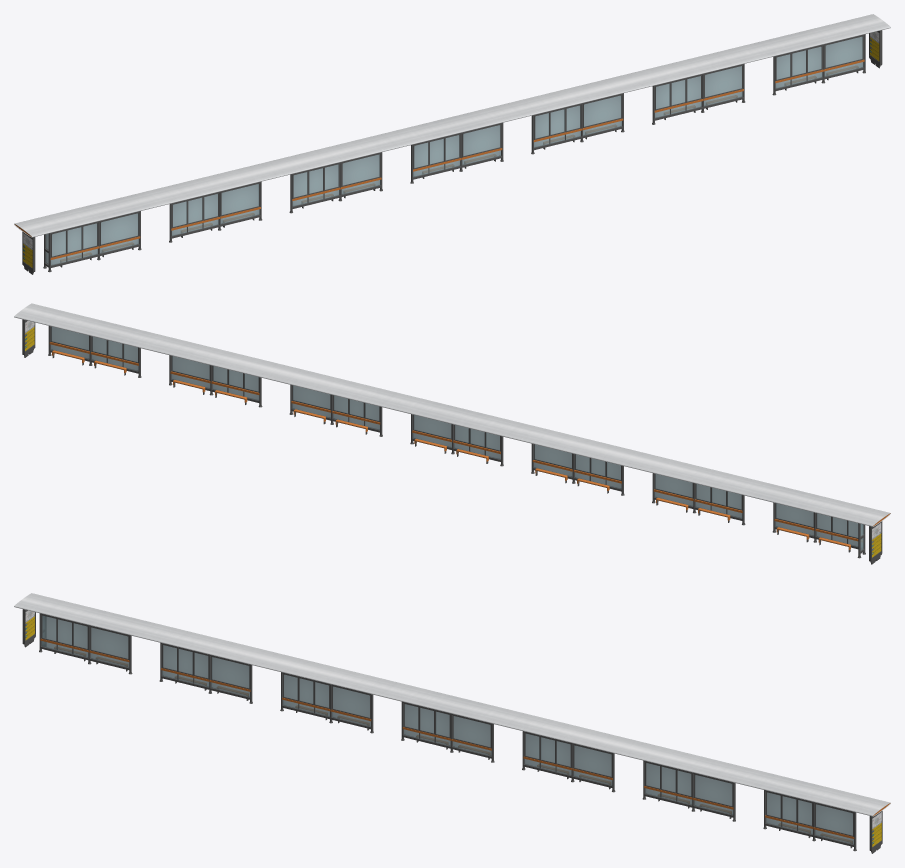
Rendered from Bus_Stop_4.fbx.
3 views of the same model, one above another, from view 1: azimuth 30°, elevation 25°; view 2: azimuth 150°, elevation 25°; view 3: azimuth 330°, elevation 25° (orthographic).
Visible parts, largest first — view 1: Bus_Stop_4; view 2: Bus_Stop_4; view 3: Bus_Stop_4.
Part boxes in pixels (left/top/right/bottom): Bus_Stop_4: left=14, top=14, right=890, bottom=274; Bus_Stop_4: left=14, top=303, right=890, bottom=564; Bus_Stop_4: left=14, top=593, right=890, bottom=853.
Bounding box in the file's own units: 55 × 2.7 × 2.
5 materials, 3 textured.
